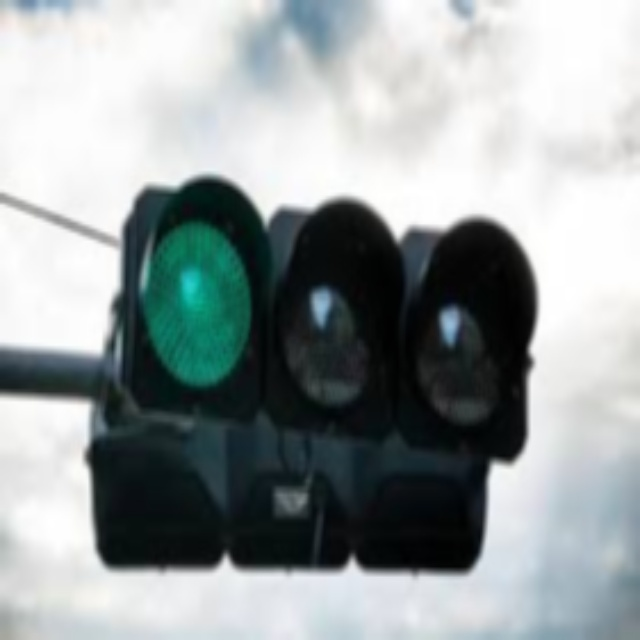green_light: (139, 217, 253, 387)
